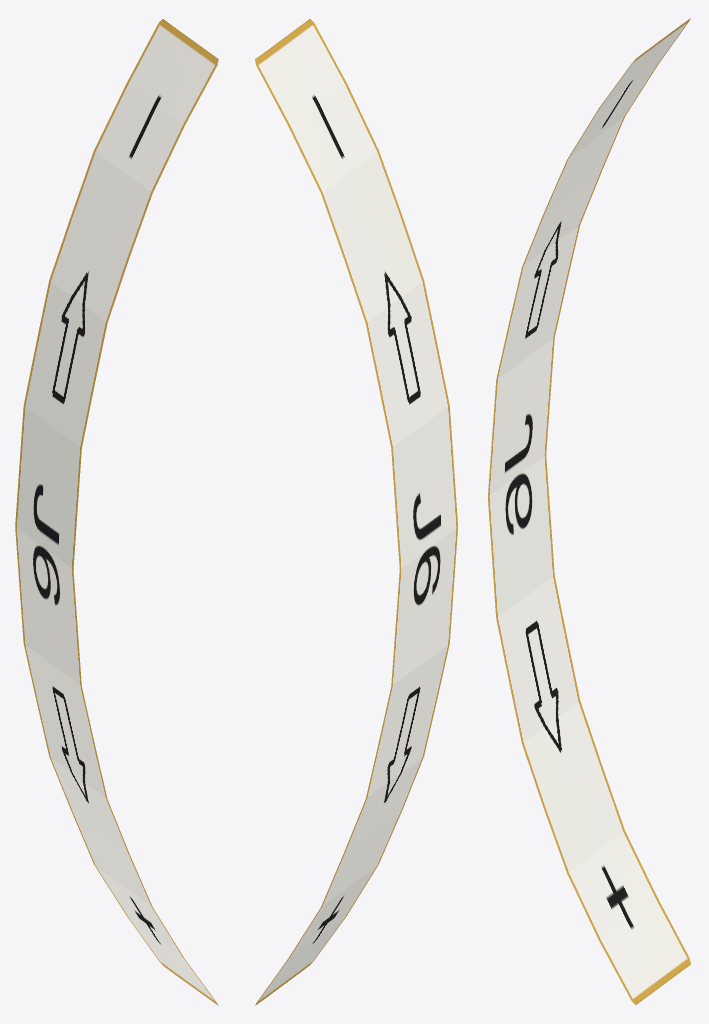
Rendered from J6_sticker_other_active.glb.
3 views of the same model, side by side, from view 1: azimuth 30°, elevation 25°; view 2: azimuth 150°, elevation 25°; view 3: azimuth 330°, elevation 25° (orthographic).
Size of the model in its own units: 0.00571 by 0.035 by 0.004.
Materials: 1 (1 with a texture image).
